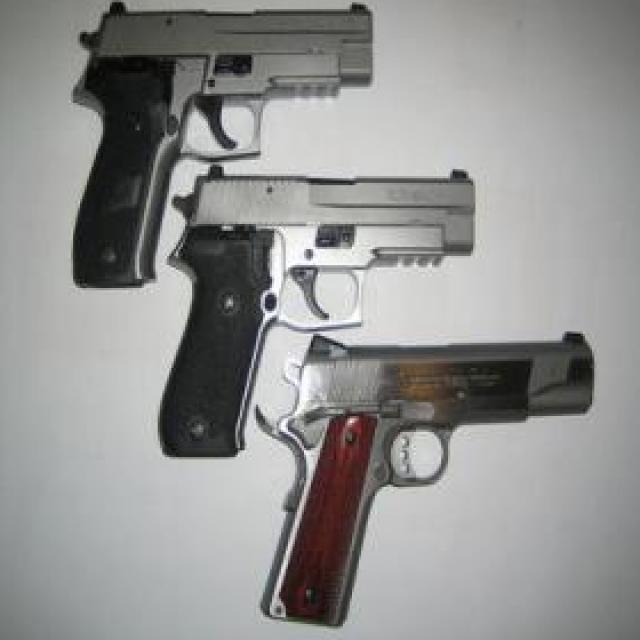pistol: (256, 329, 594, 628), (159, 165, 473, 462), (68, 0, 375, 288)
